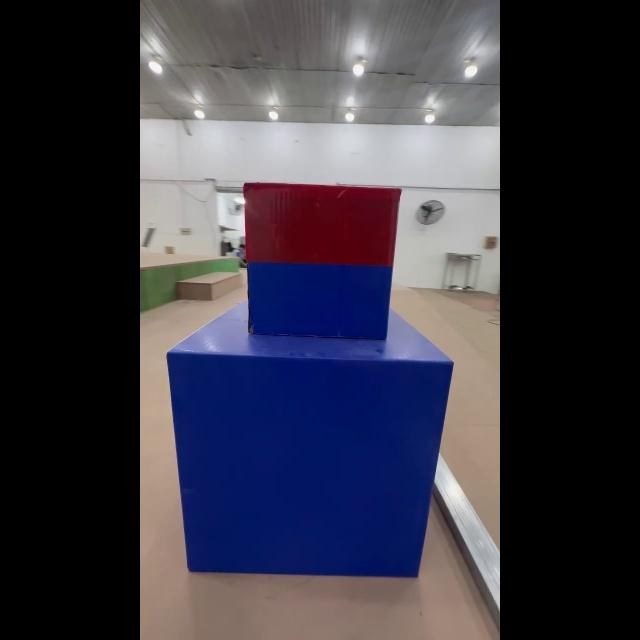sky_block: (237, 176, 410, 346)
